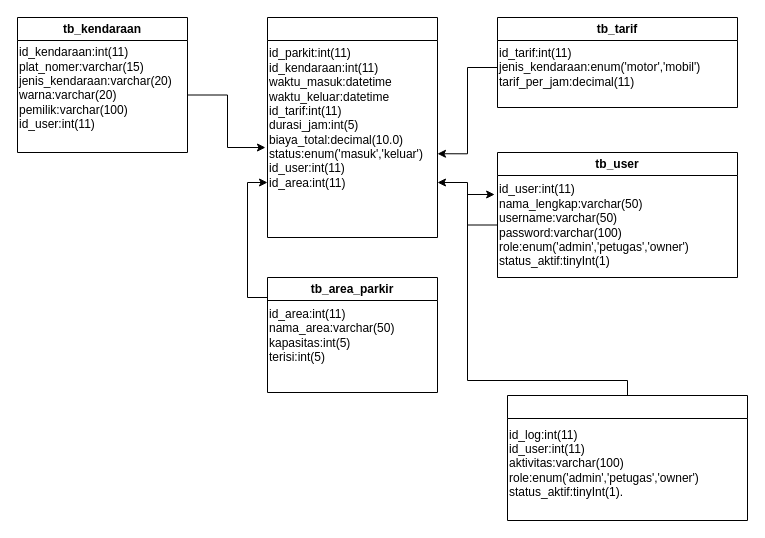
Some shapes in this 765 by 538 pixel diagram are drawn without their labels. Here are the shapes that lost their labels. From the top down, the box of each, then its label:
(266, 16, 438, 238): tb_transaksi
(506, 394, 748, 520): tb_log_aktivitas
